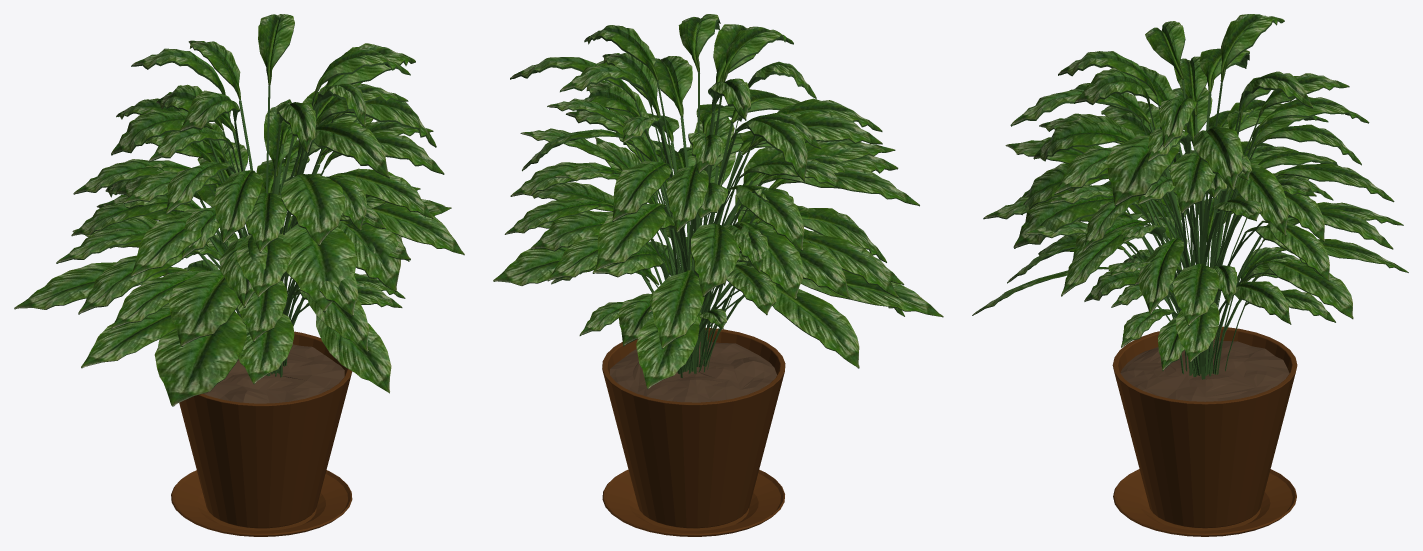
File: spatifilum.obj
The picture shows the model from 3 angles, left to right: view 1: azimuth 30°, elevation 25°; view 2: azimuth 150°, elevation 25°; view 3: azimuth 270°, elevation 25°; orthographic projection.
Parts seen in each view (by area): view 1: Flower_Plane.211, Bowl_Circle, Dirt_Circle.002; view 2: Flower_Plane.211, Bowl_Circle, Dirt_Circle.002; view 3: Flower_Plane.211, Bowl_Circle, Dirt_Circle.002.
Part boxes in pixels (left/top/right/bottom): Flower_Plane.211: left=14, top=14, right=464, bottom=406; Bowl_Circle: left=171, top=331, right=352, bottom=536; Dirt_Circle.002: left=203, top=344, right=344, bottom=403; Flower_Plane.211: left=493, top=14, right=943, bottom=388; Bowl_Circle: left=602, top=327, right=785, bottom=536; Dirt_Circle.002: left=610, top=341, right=777, bottom=402; Flower_Plane.211: left=972, top=14, right=1408, bottom=379; Bowl_Circle: left=1112, top=326, right=1297, bottom=536; Dirt_Circle.002: left=1120, top=339, right=1289, bottom=401.
Bounding box in the file's own units: 79.76 × 87.47 × 74.9.
Materials: 4 (1 with a texture image).
